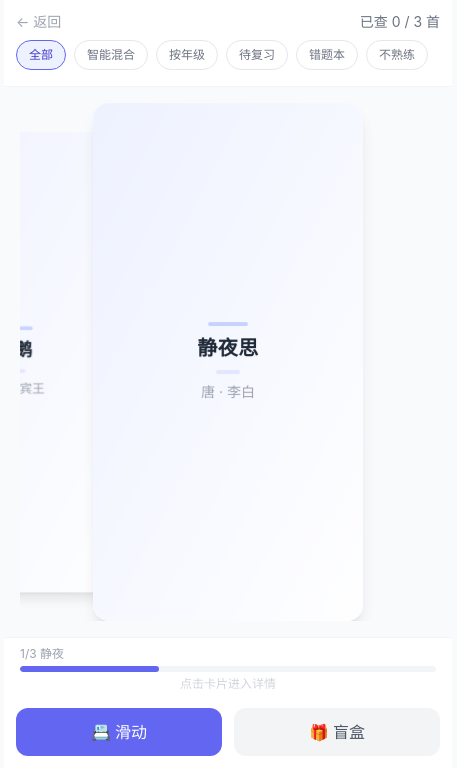
it: PoemCardPage source filters and navigation › grade source shows grade selector and filters poems
What coordinates should you click on to do the following:
click the button "按年级"
I would click on:
 (187, 55)
Its box is [156, 40, 218, 70].
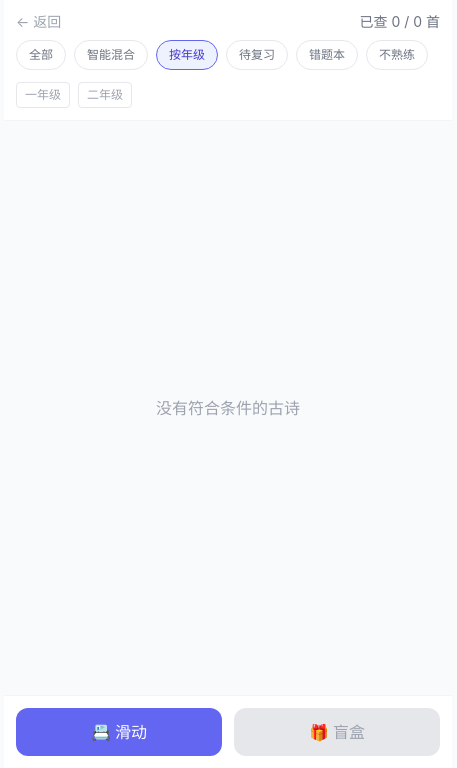
Now the button "一年级" is shown
What coordinates should you click on to do the following:
click the button "一年级"
I would click on:
 (43, 95)
Its box is [16, 82, 70, 108].
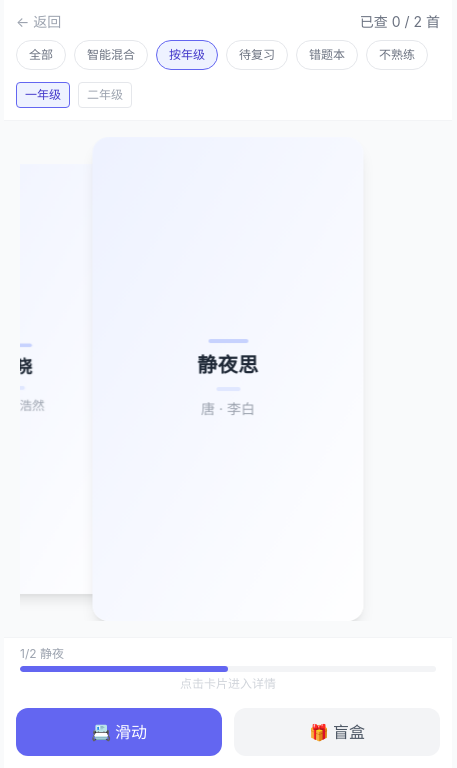
Expected: the text "咏鹅" is not shown
Now the text "静夜思" is shown, box [197, 351, 259, 379]
